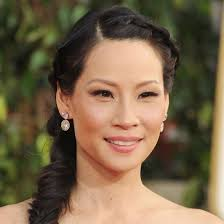person: (51, 5, 174, 175)
